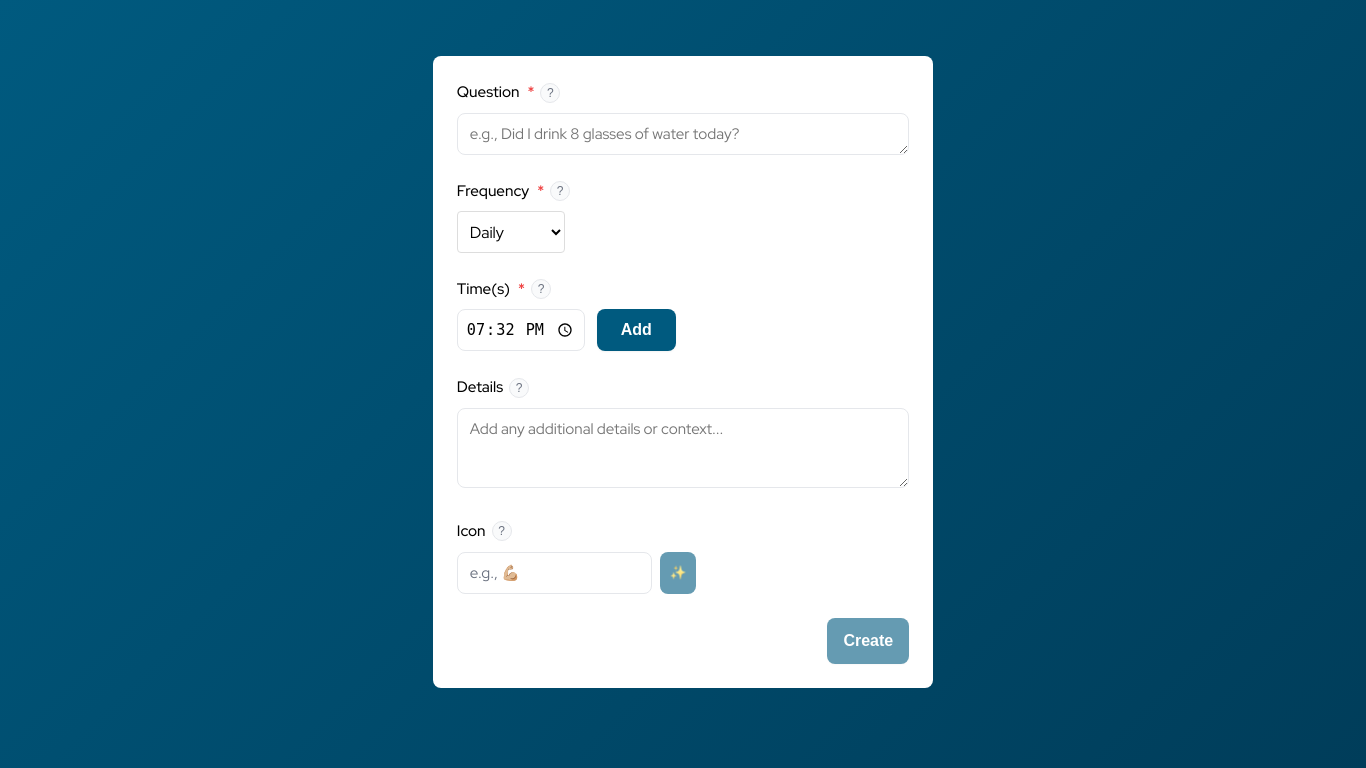
Scenario: TrackingForm › should reset oneTimeDate when switching away from One-time
The image size is (1366, 768).
In the text box labelled "Question * ?": point(683, 134) [457,113,909,155], type "Test question"
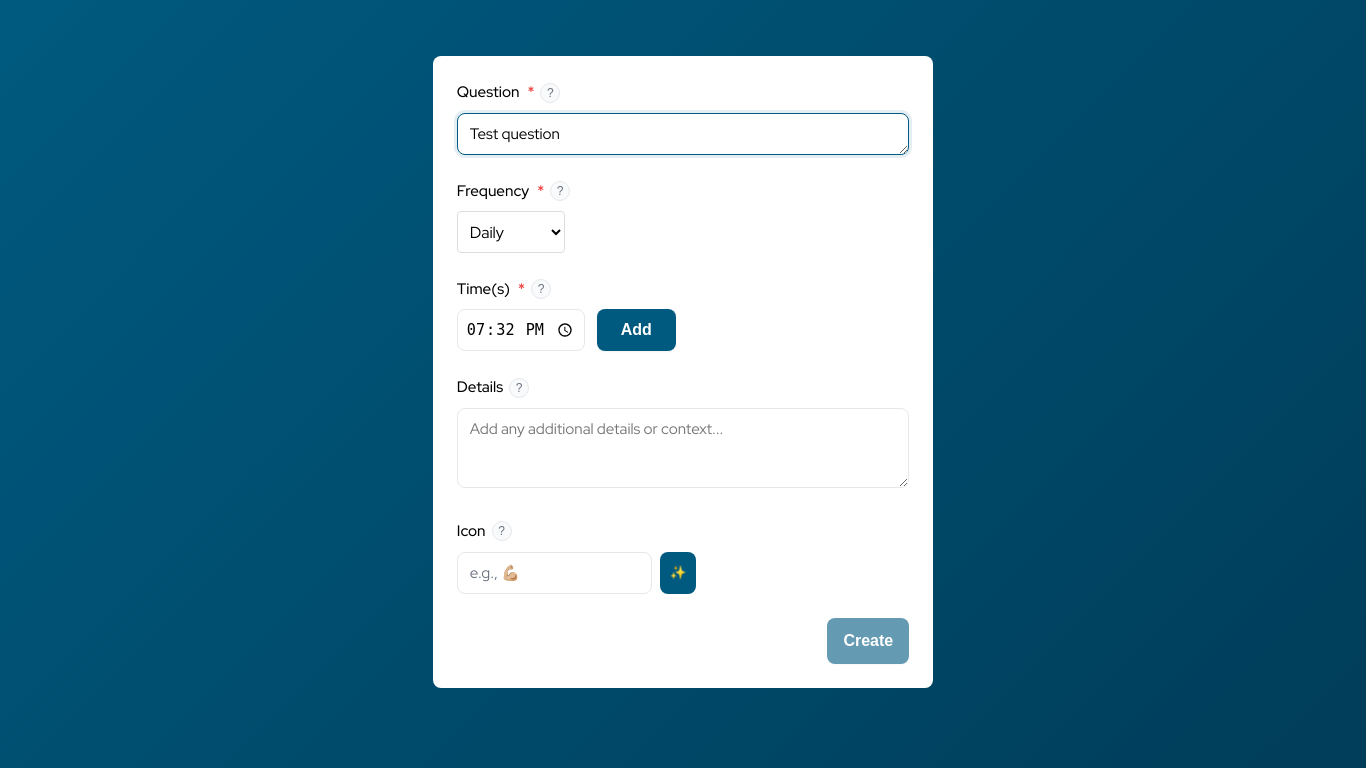
Select "One-time" in the dropdown with id "frequency-preset": point(511, 232) [457,211,565,253]
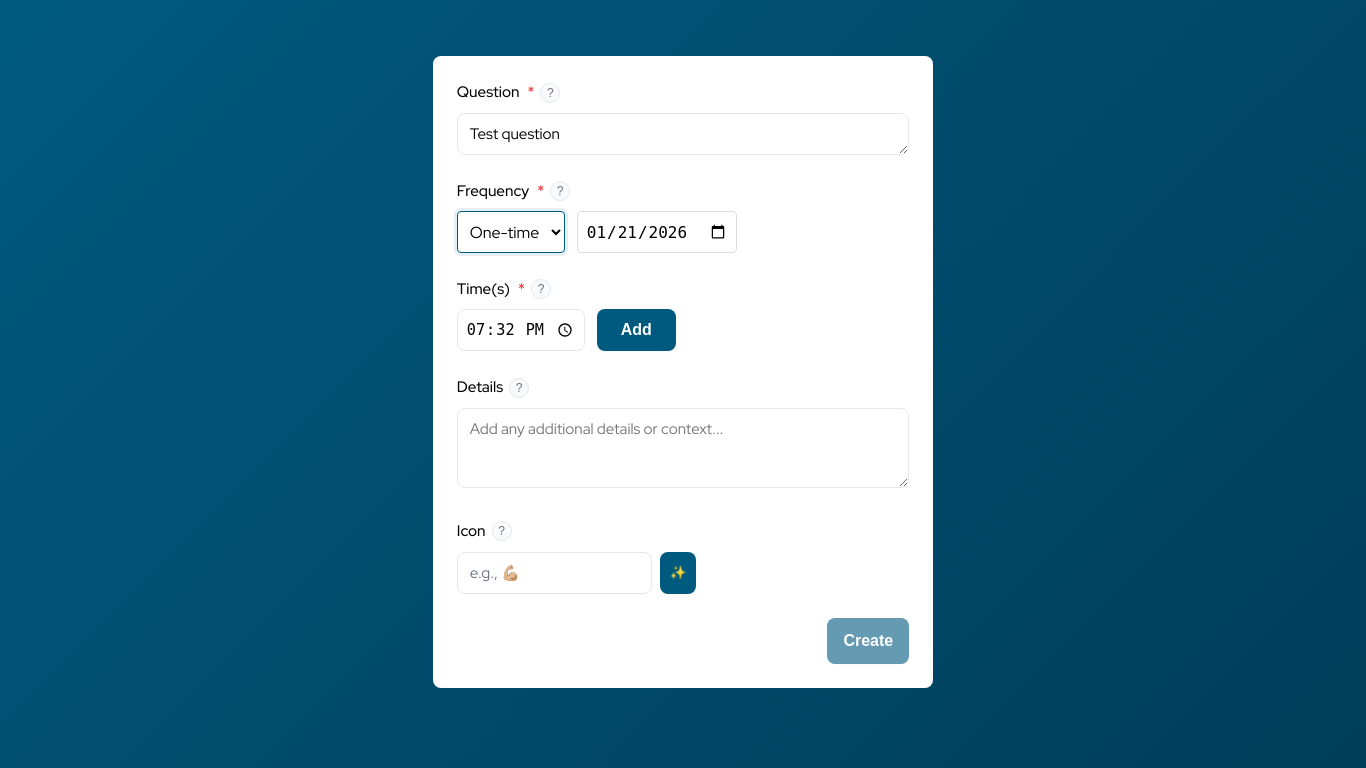
Expected: the date field with id "one-time-date" is not empty, [577,211,737,253]
Select "Weekly" in the dropdown with id "frequency-preset": point(511, 232) [457,211,565,253]
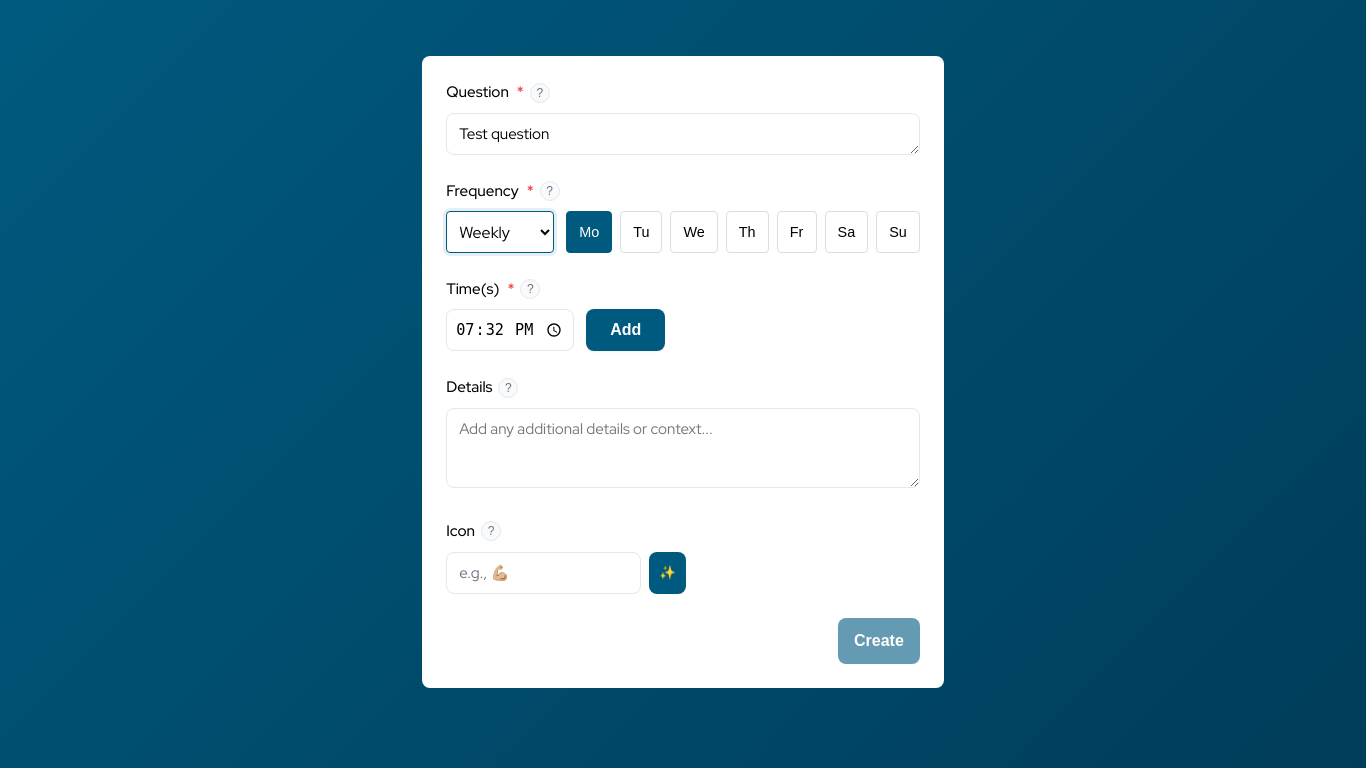
Expected: the date field with id "one-time-date" is gone
